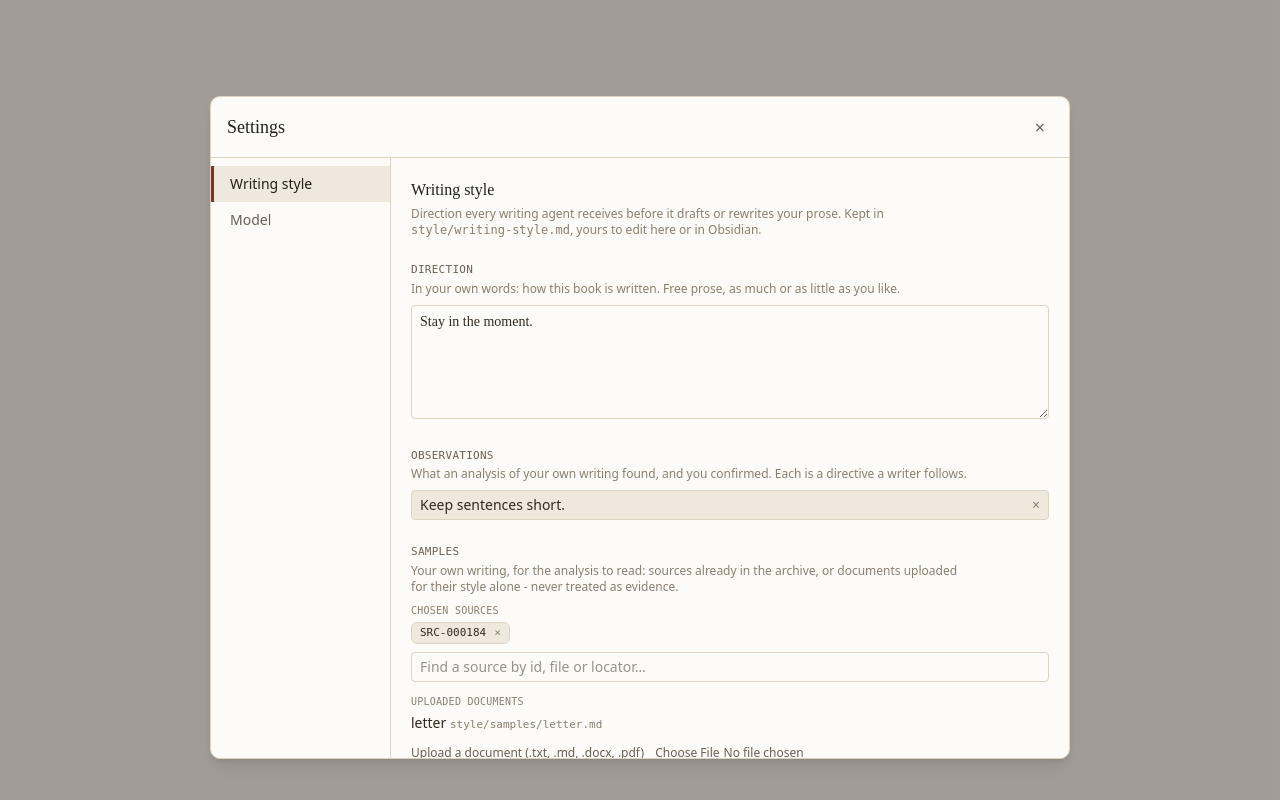
the settings dialog › keeps typed direction when a proposal is confirmed, then saves with the fresh token
This screenshot has width=1280, height=800.
Replace the text in the text box named "Direction" with "No hindsight." at (730, 362), box [411,304,1049,418]
(page scrolled)
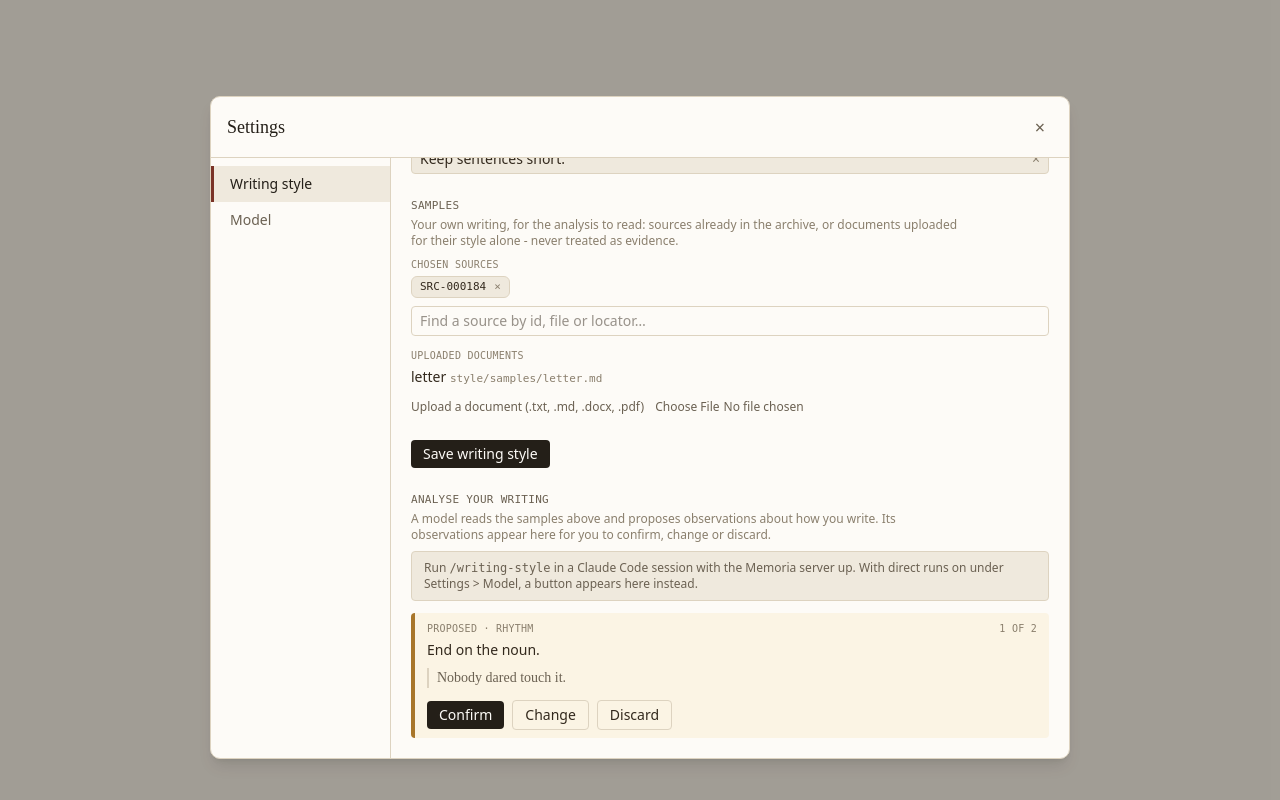
Click the button "Confirm" at (466, 714), box [427,700,504,728]
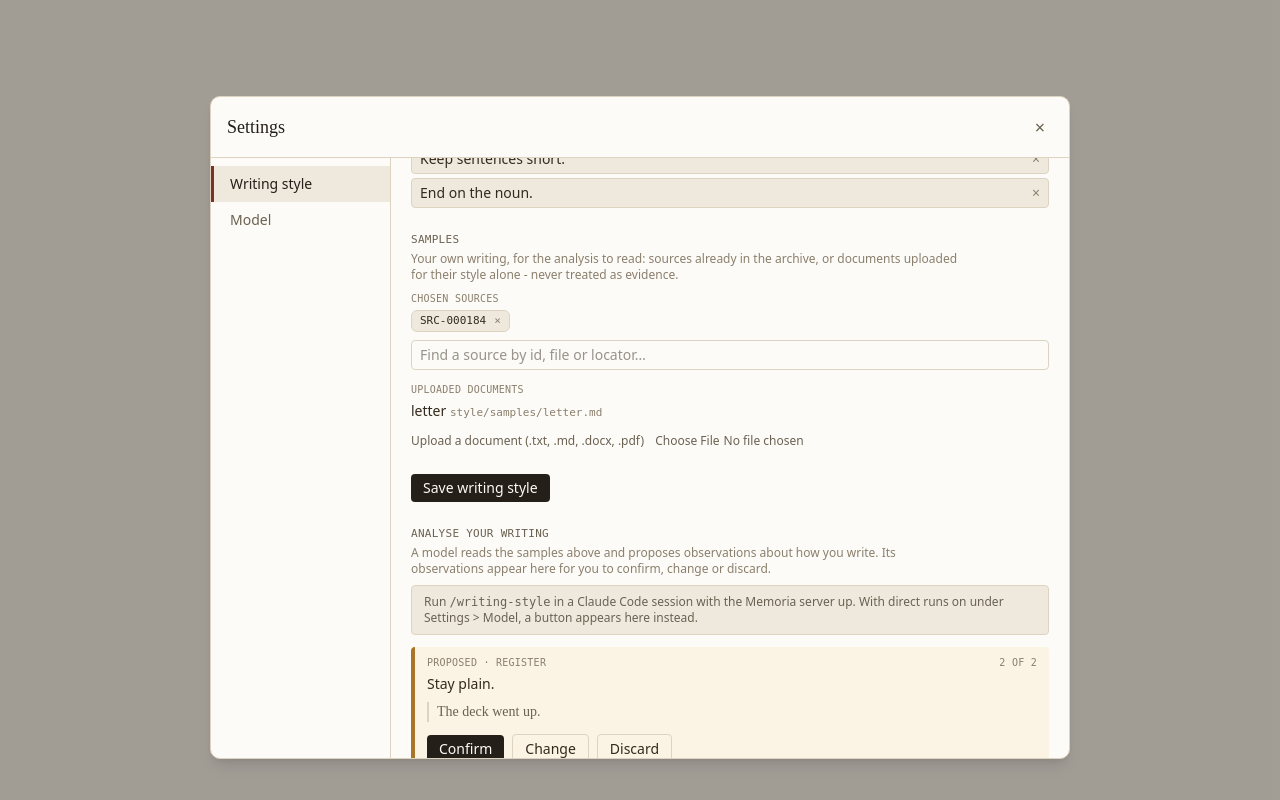
Expected: the text "2 of 2" is shown, [999,654,1037,670]
Expected: the button named "Remove observation: End on the noun." is shown, [1032,183,1040,203]
Note: ...and the save carries the token the confirm advanced to, not the stale one.
Click the button "Save writing style" at (480, 488), box [411,474,550,502]
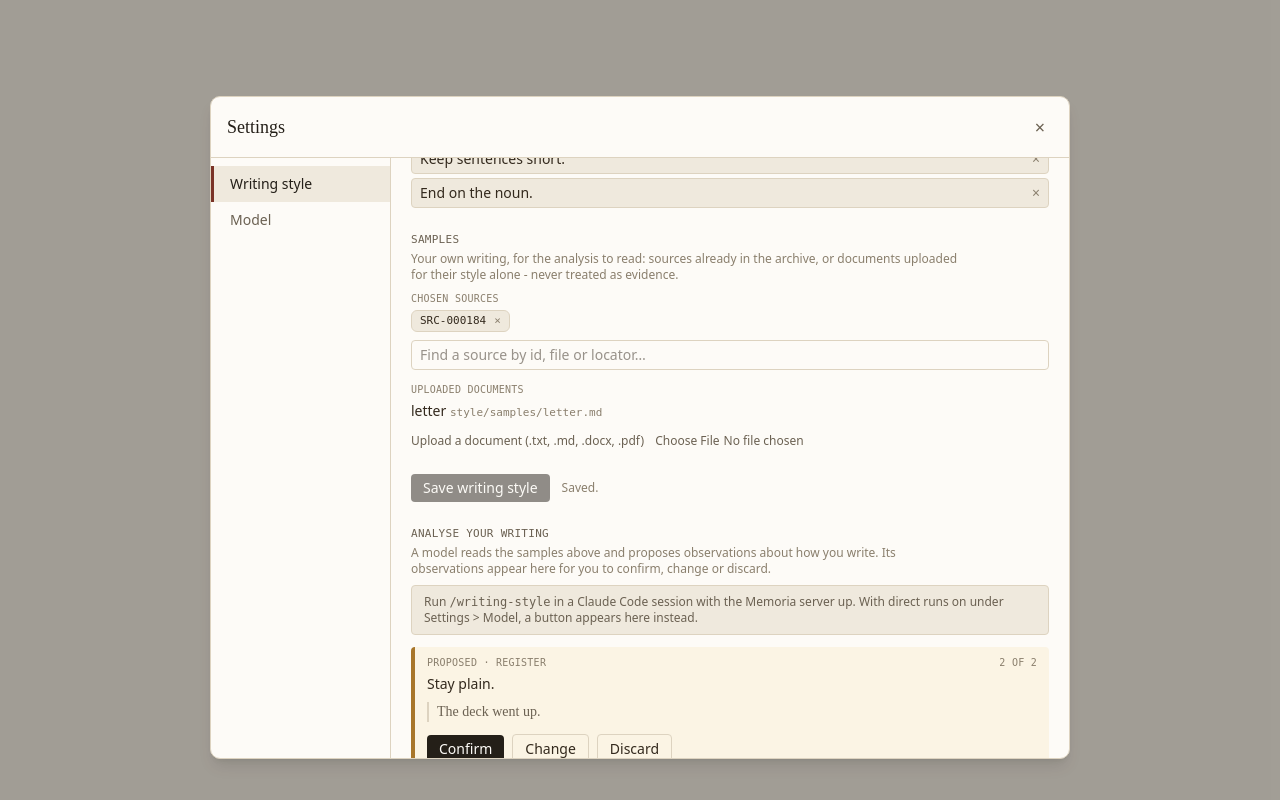
Expected: the text "Saved." is shown, [562,480,598,496]
